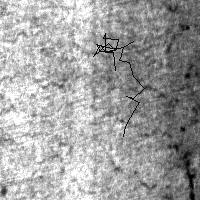crazing: (2, 27, 171, 138), (93, 33, 144, 136)
